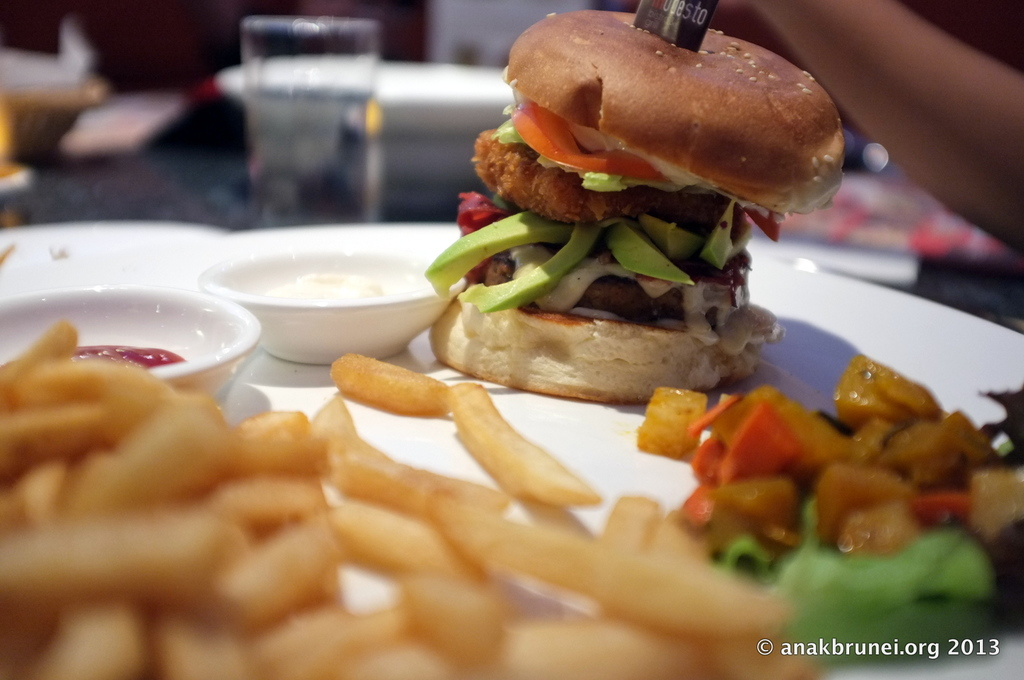French fries: (0, 340, 821, 679)
